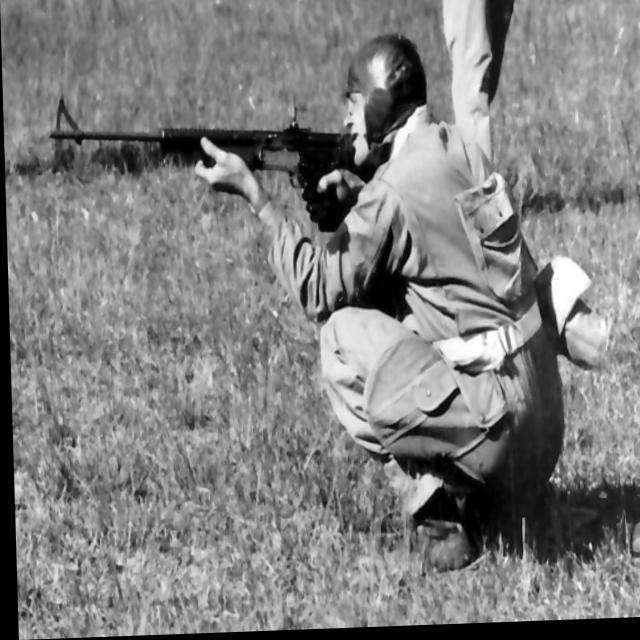other: (294, 22, 540, 558)
